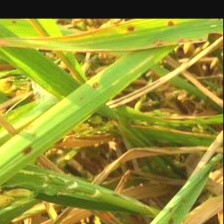Bacterial_Leaf_Blight: (17, 144, 35, 157), (124, 23, 139, 34), (164, 20, 177, 28), (88, 81, 101, 88), (165, 215, 174, 224)
